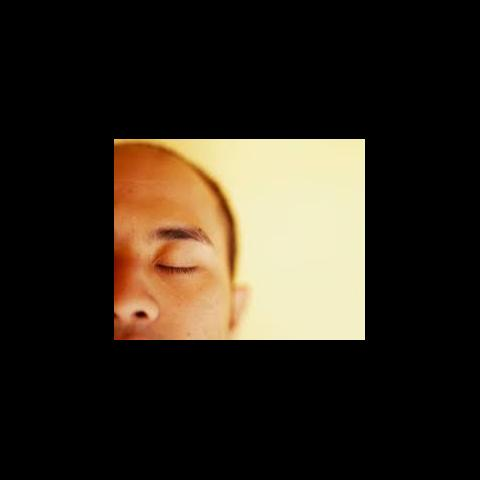closed: (142, 216, 218, 282)
